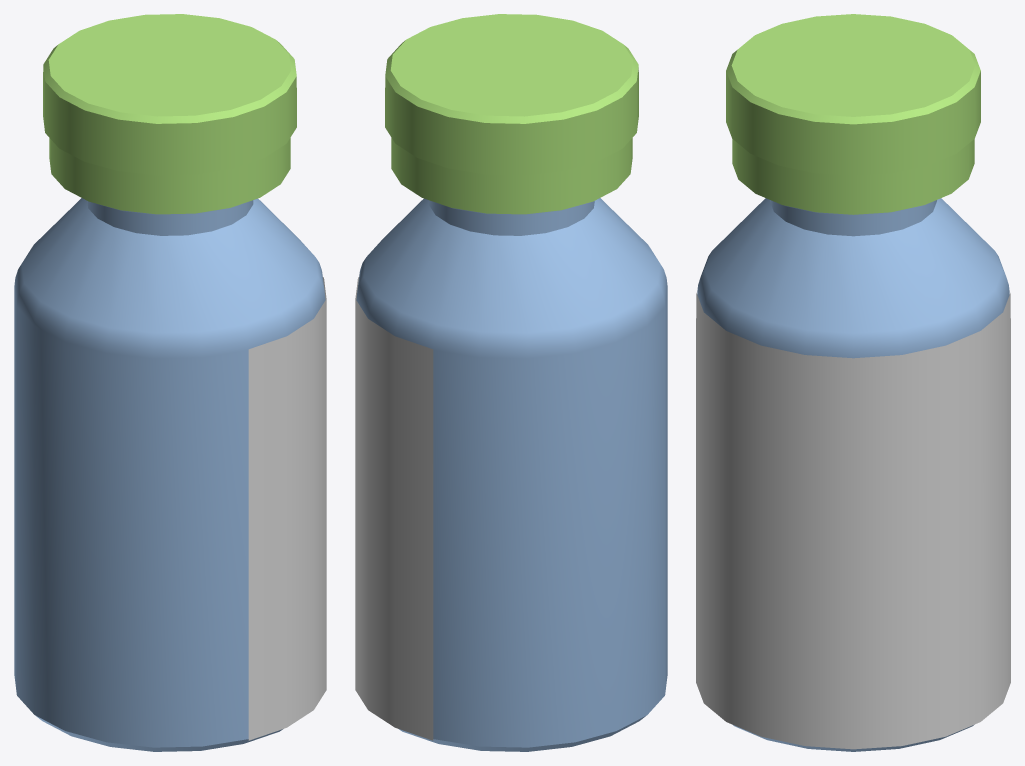
File: SM_HyperTet.fbx
3 renders of one model, left to right at view 1: azimuth 30°, elevation 25°; view 2: azimuth 150°, elevation 25°; view 3: azimuth 270°, elevation 25°, orthographic.
Visible parts, largest first — view 1: Body, Cap, Label; view 2: Body, Cap, Label; view 3: Label, Cap, Body.
Part boxes in pixels (x1=…): Body: x1=14, y1=198, x2=325, y2=751; Cap: x1=43, y1=14, x2=296, y2=214; Label: x1=248, y1=277, x2=326, y2=740; Body: x1=356, y1=198, x2=667, y2=751; Cap: x1=385, y1=14, x2=638, y2=214; Label: x1=355, y1=277, x2=433, y2=740; Label: x1=696, y1=293, x2=1010, y2=749; Cap: x1=726, y1=14, x2=980, y2=214; Body: x1=697, y1=198, x2=1009, y2=751.
Bounding box in the file's own units: 0.0263 × 0.0577 × 0.0264.
